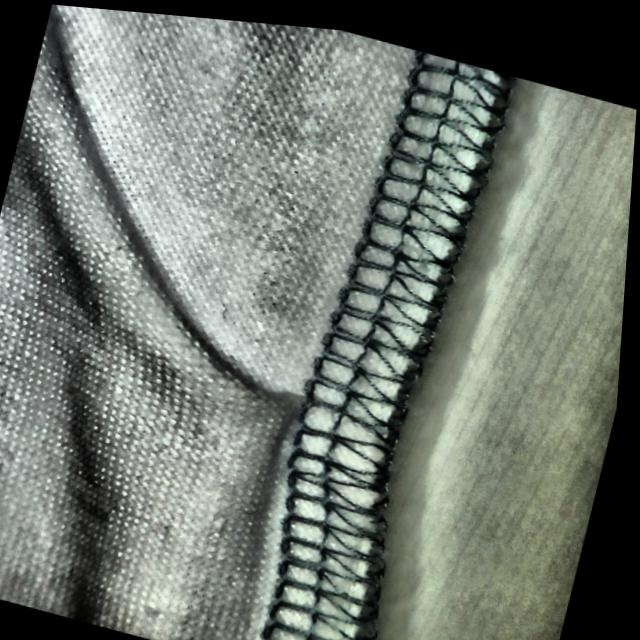seam: (145, 319, 467, 571)
